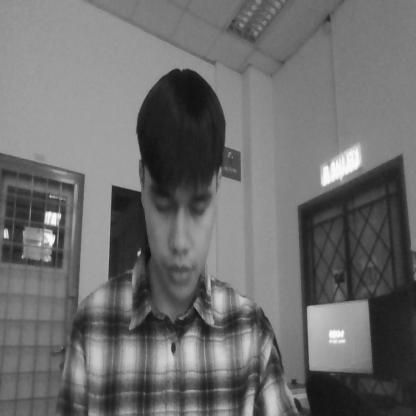Closed-Eyes: (148, 182, 212, 222)
